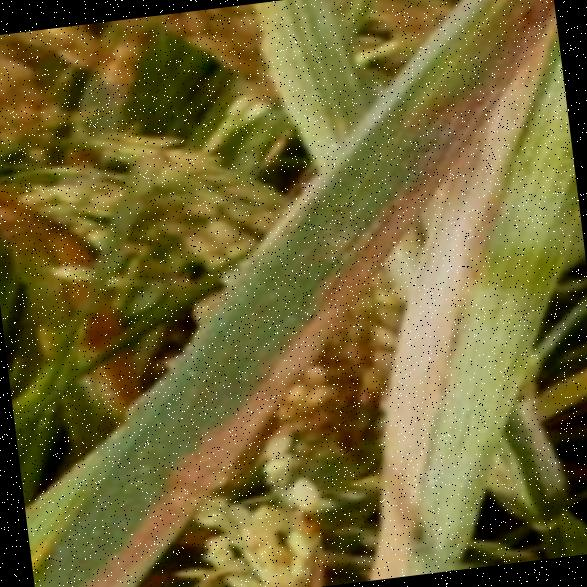Bacteria_Leaf_Blight: (6, 331, 259, 587), (414, 90, 580, 428)
